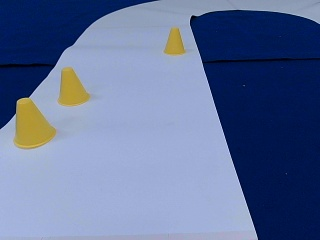cone: (14, 98, 57, 147), (57, 67, 90, 105), (164, 27, 185, 54)
